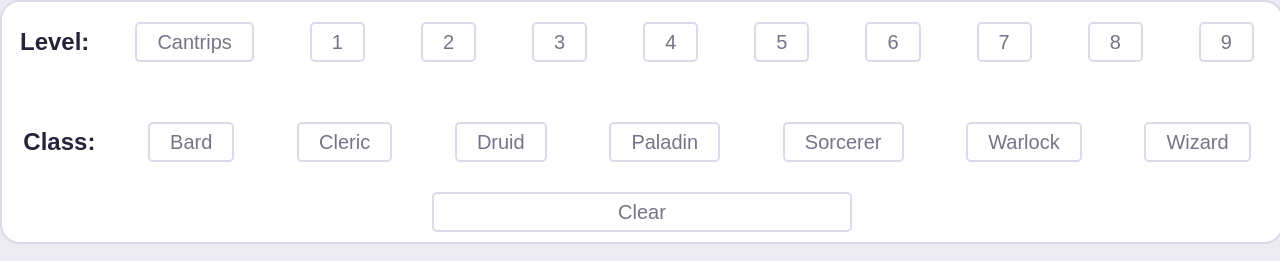
Test: disables Paladin when Cantrips is selected
Click the button "Cantrips": (195, 42) [135, 22, 254, 62]
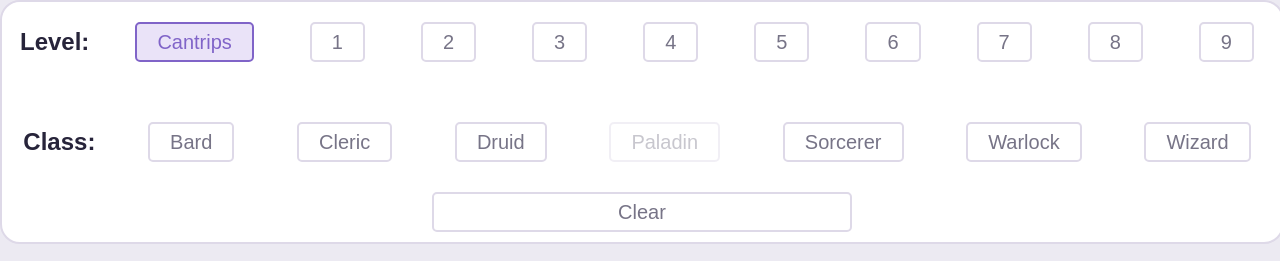
expect the button "Paladin" is disabled: met, box [609, 122, 720, 162]
